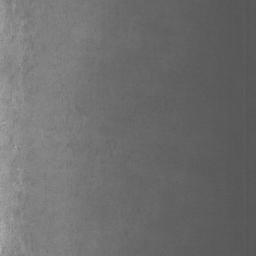Silk spot: (18, 54, 38, 80), (13, 192, 29, 219), (23, 12, 36, 32), (2, 246, 25, 256), (23, 170, 36, 186), (23, 35, 34, 50), (5, 8, 18, 20), (75, 104, 88, 116)
